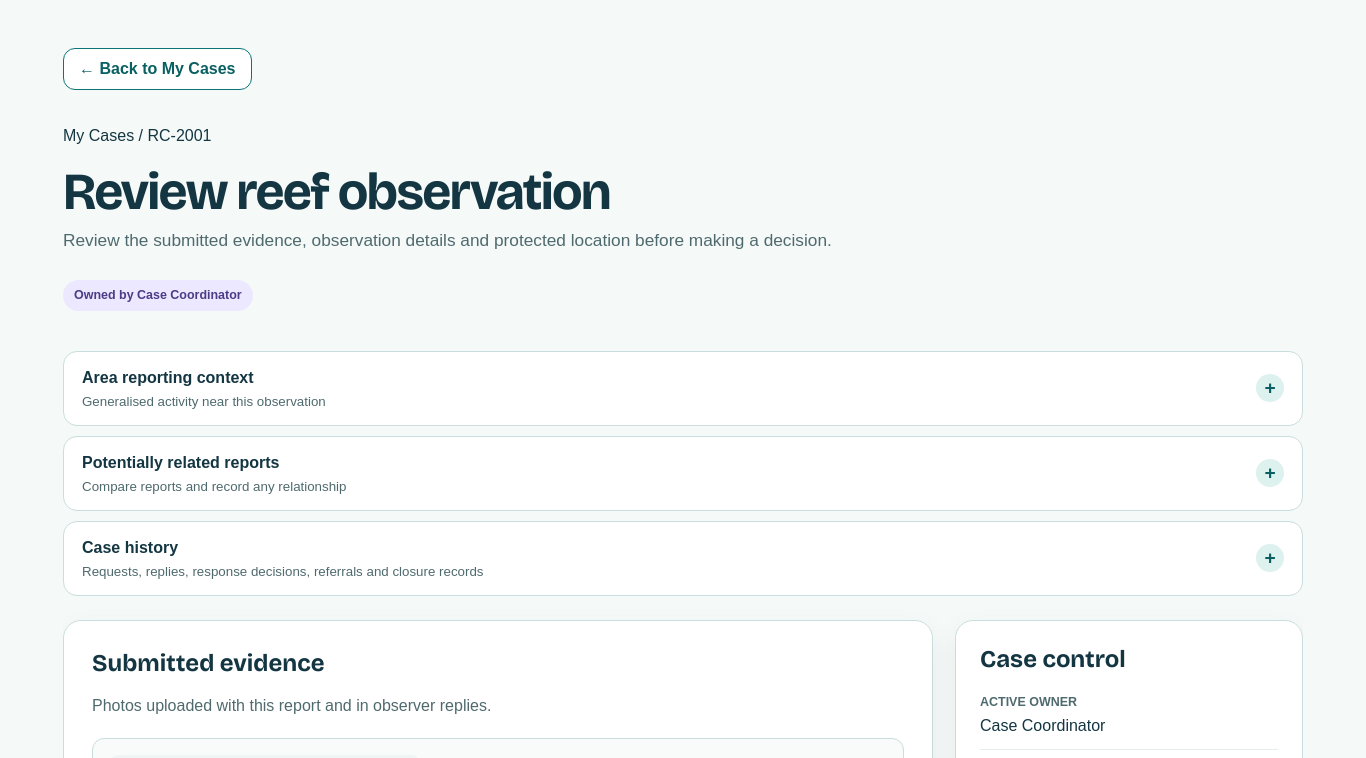
Test: Coordinator case workflow › renders the backend information-exchange event list for re-review
Check: the heading "Review reef observation" is shown, box [63,161,610,223]
What coordinates should you click on to do the following:
click the text "Case history"
I would click on:
 (130, 547)
Its box is [82,539,178,556].
(page scrolled)
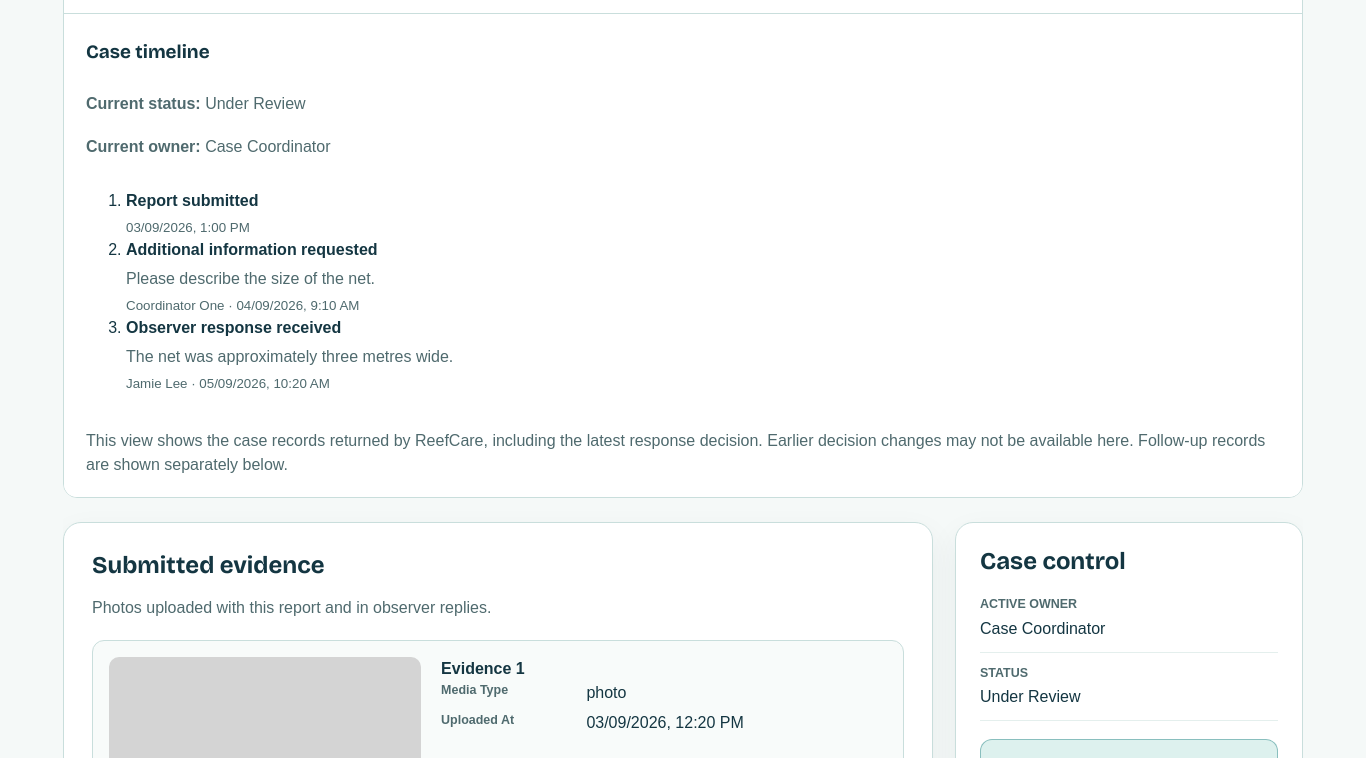
Check: the heading "Case timeline" is shown, box [86,40,210,63]
Check: the text "Additional information requested" is shown, box [126,241,378,258]
Check: the text "Please describe the size of the net." is shown, box [126,270,375,287]
